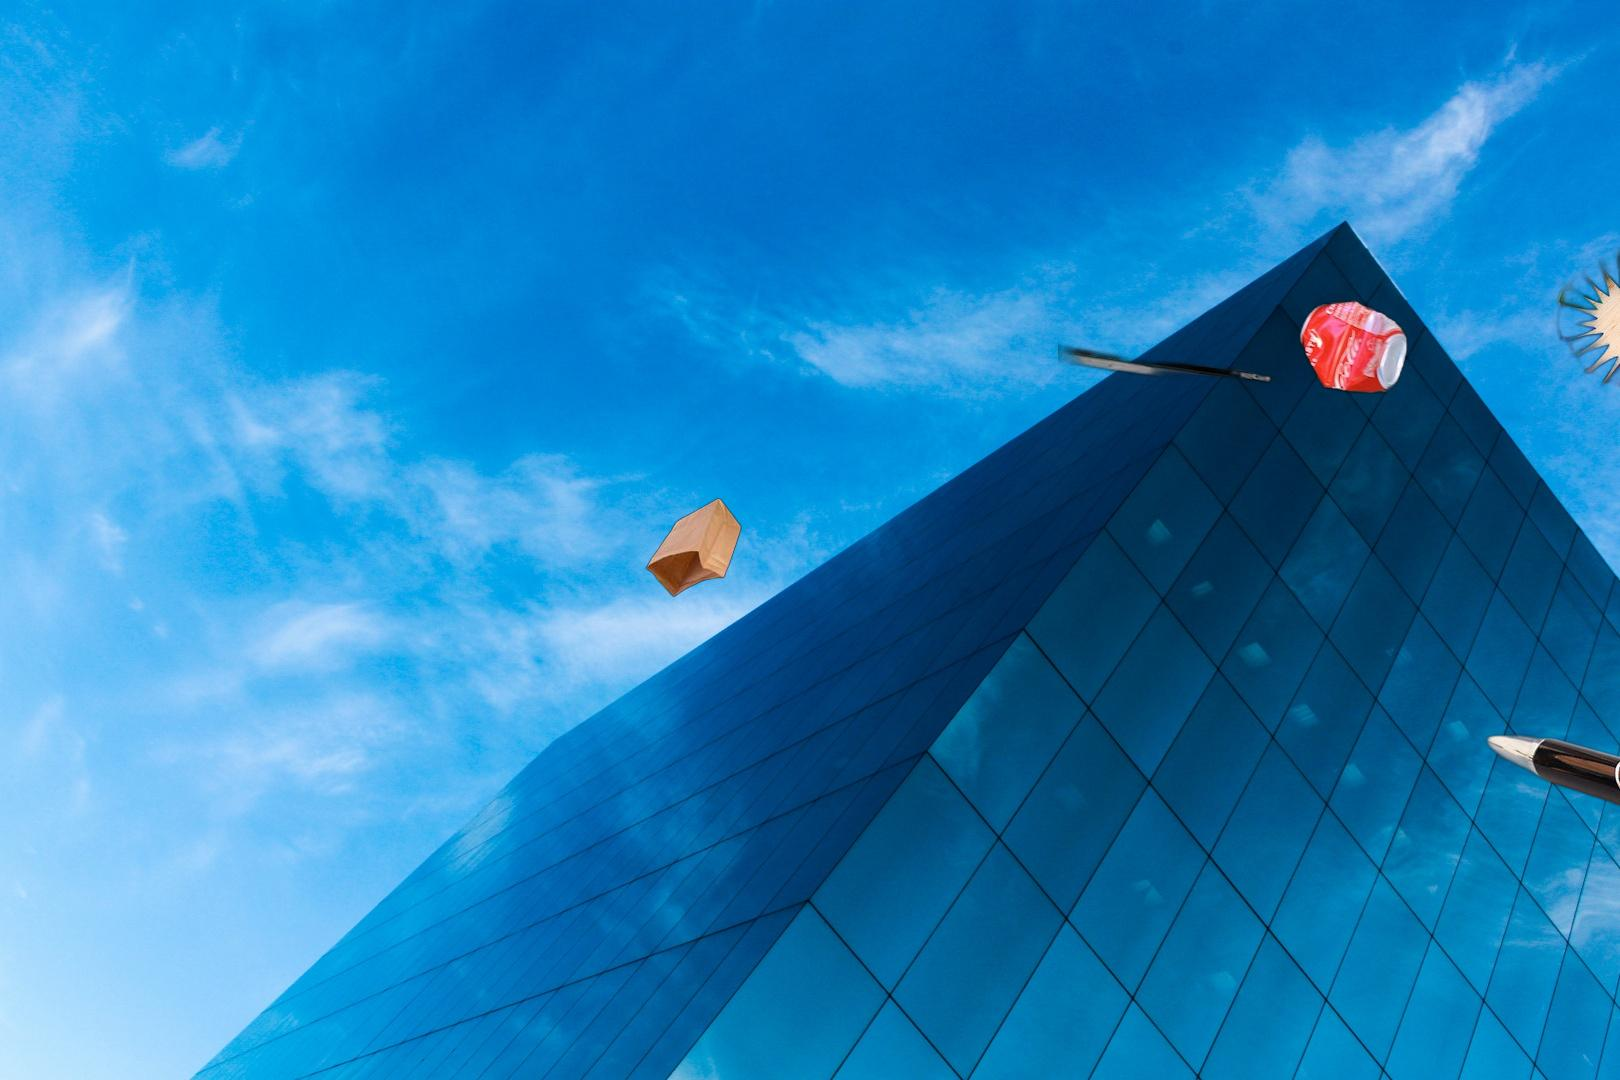metal-cans: (1058, 218, 1571, 470)
paper-bag: (641, 495, 744, 600)
penholder: (1332, 72, 1620, 673), (1481, 730, 1620, 956)
